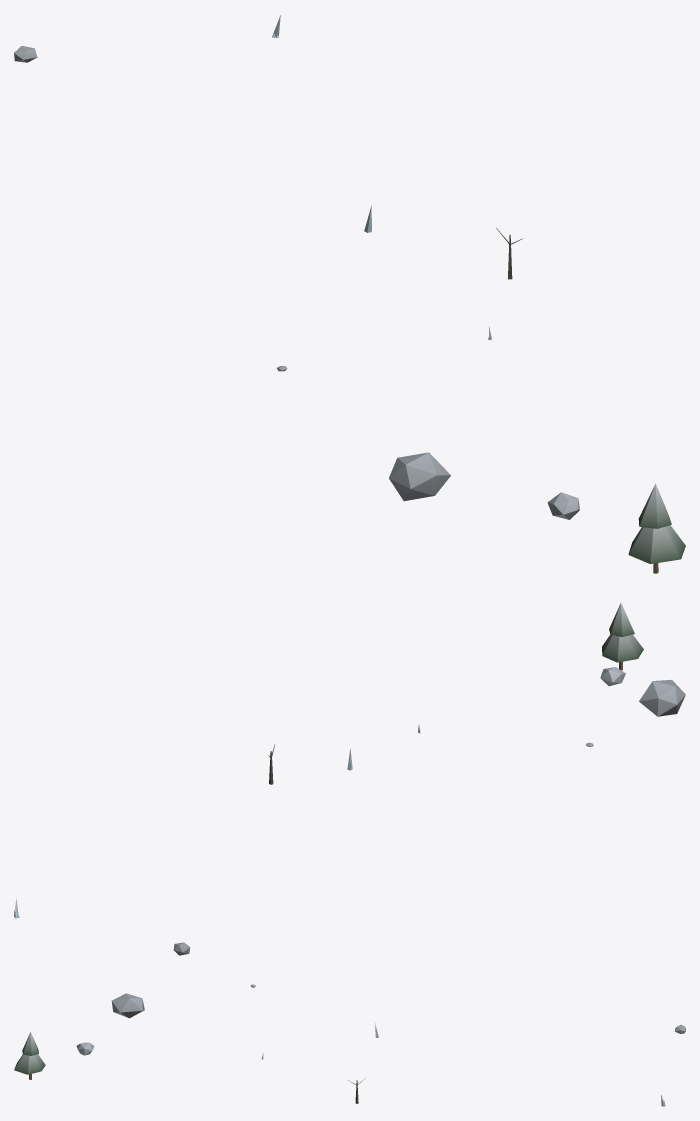
Rendered from frost_land_scatter_c15_13_lod1.glb.
3 views of the same model, one above another, from view 1: azimuth 30°, elevation 25°; view 2: azimuth 150°, elevation 25°; view 3: azimuth 270°, elevation 25° (orthographic). The views are drawn at different scales.
Parts seen in each view (by area): view 1: frost_land_scatter_c15_13_lod1; view 2: frost_land_scatter_c15_13_lod1; view 3: frost_land_scatter_c15_13_lod1.
Boxes of the visible parts, x1,y1,x2,y2 form: frost_land_scatter_c15_13_lod1: (14,15,685,573); frost_land_scatter_c15_13_lod1: (14,603,685,955); frost_land_scatter_c15_13_lod1: (14,984,685,1106).
Size of the model in its own units: 42.11 by 12.97 by 119.
